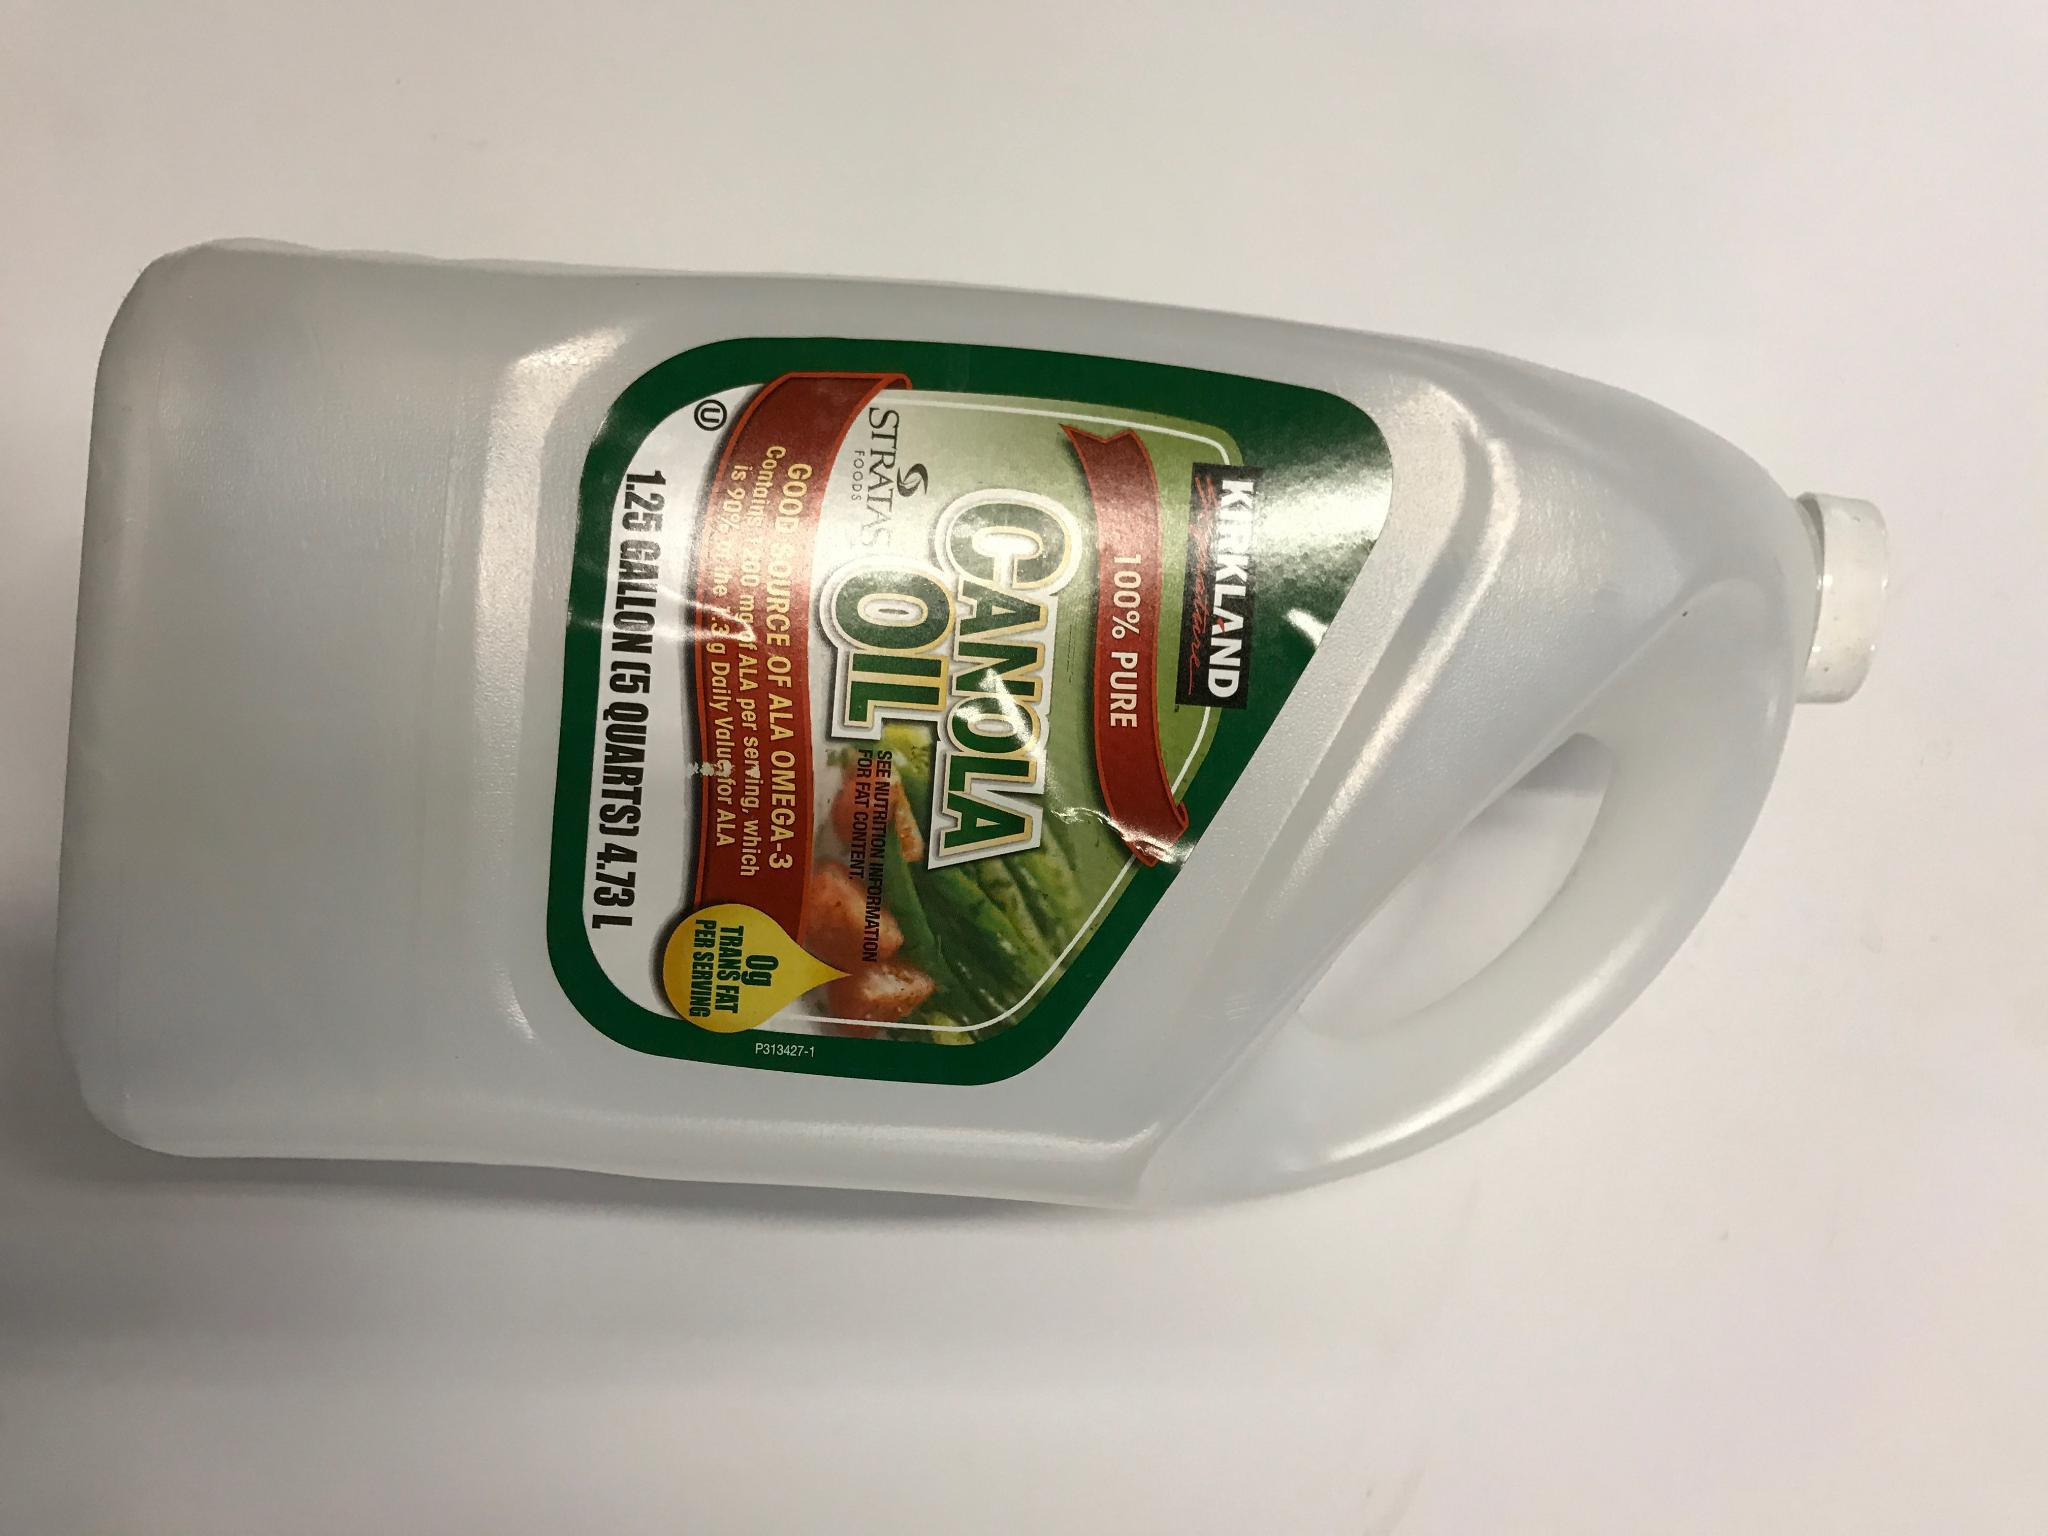Plastic: (48, 227, 1922, 1229)
